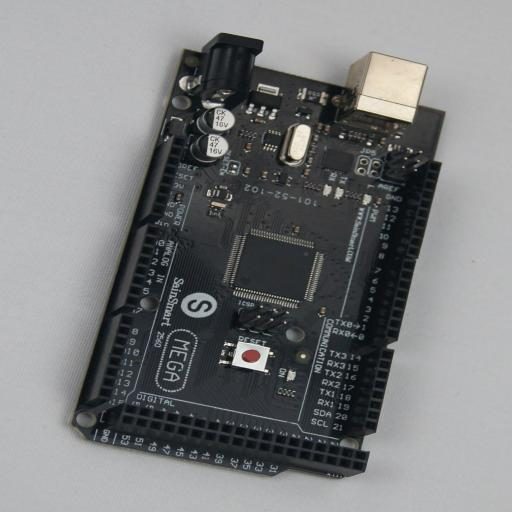Arduino Mega 2560 -Black-: (71, 33, 445, 479)
